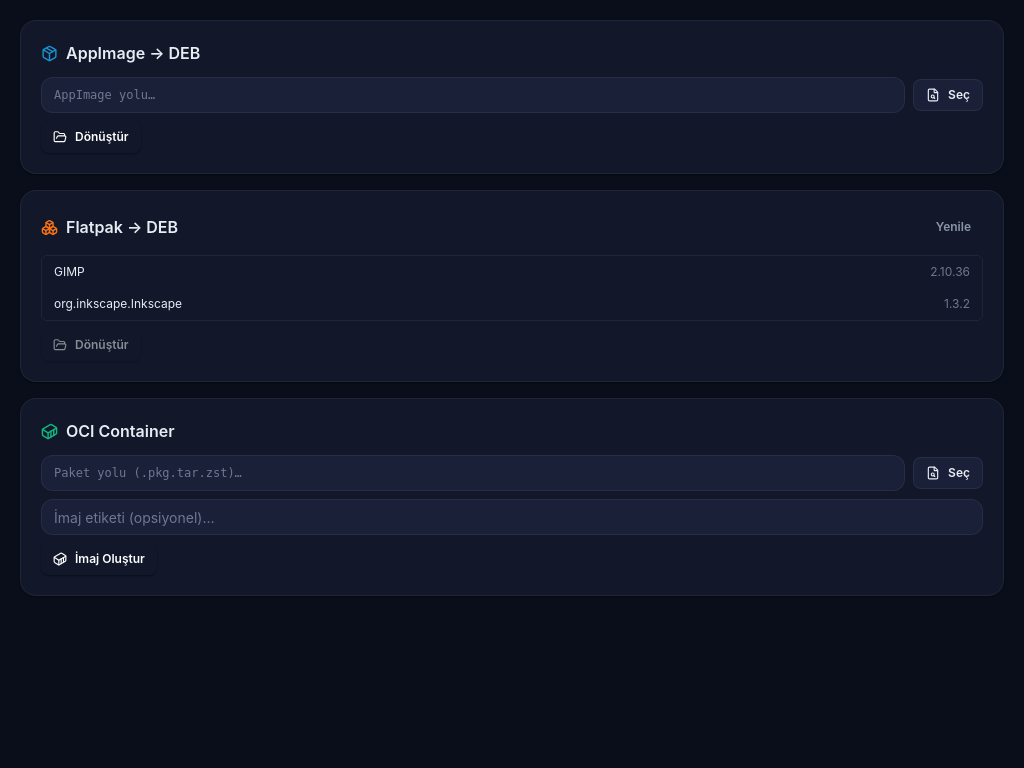
Export page › Flatpak: uygulama listesi render edilir, secim yoksa Dönüştür devre disidir
The image size is (1024, 768).
expect the text "org.inkscape.Inkscape" is shown: met, box [54,296,182,312]
expect the text "2.10.36" is shown: met, box [930,264,970,280]
Click the text "GIMP": {"x": 69, "y": 272} [54,264,85,280]
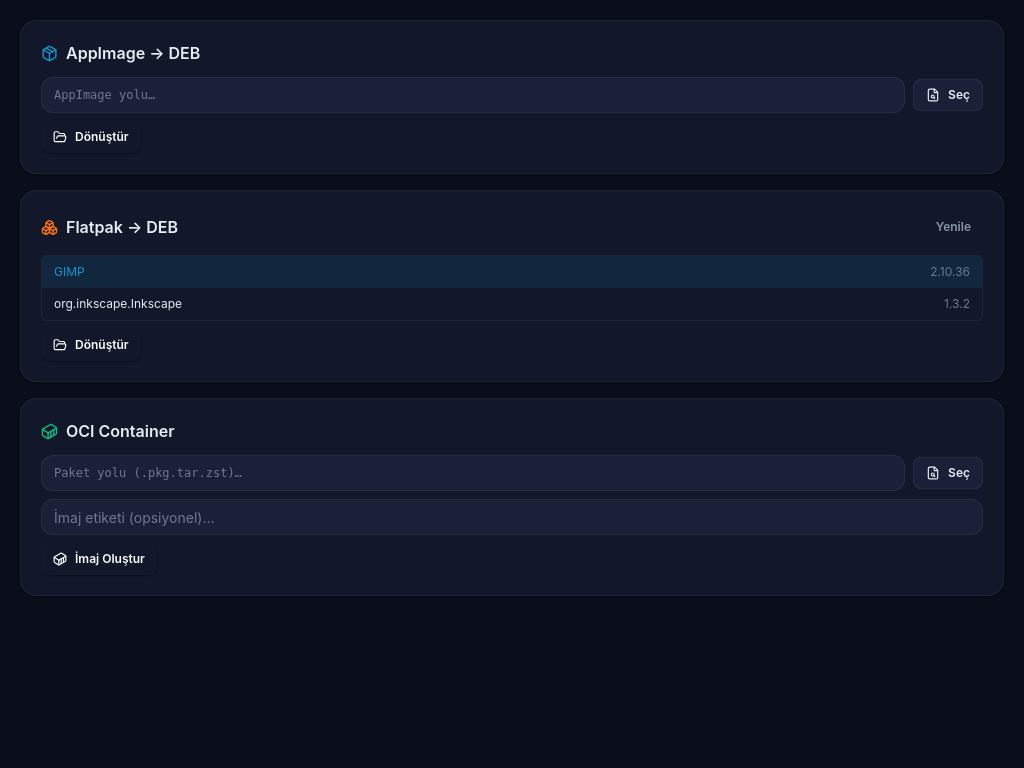
expect the button "Dönüştür" below "Flatpak → DEB" is enabled: met, box [41,329,141,361]
